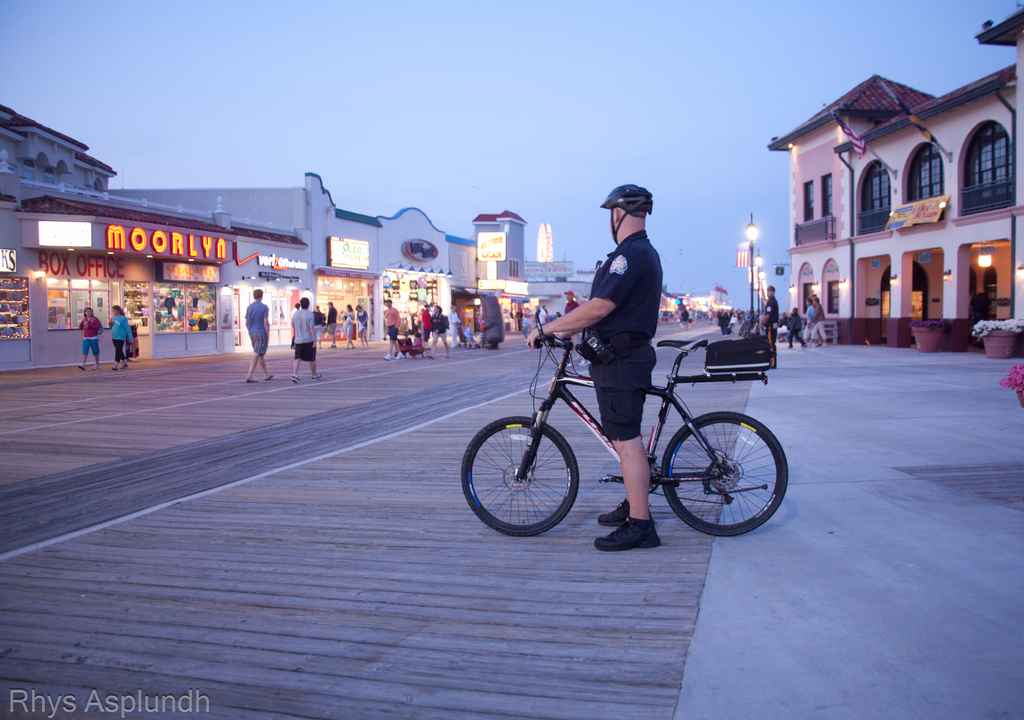Bike: (477, 313, 809, 552)
